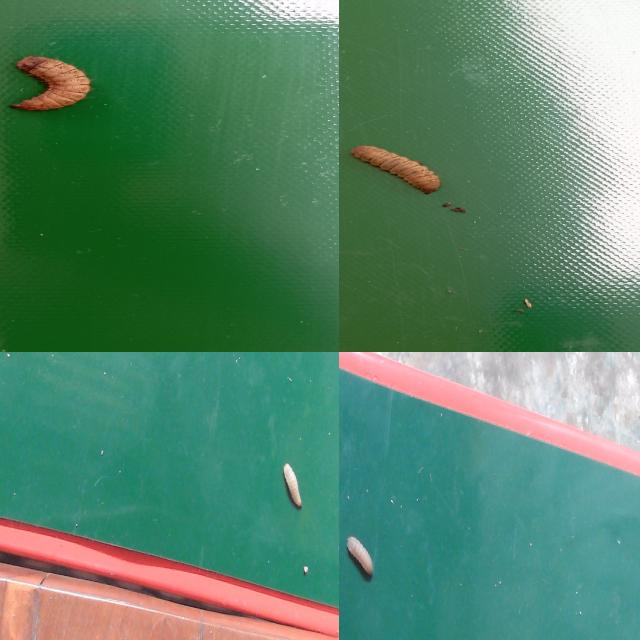Maggot: (352, 144, 442, 196), (13, 56, 92, 114), (347, 538, 376, 583), (282, 465, 304, 510)
